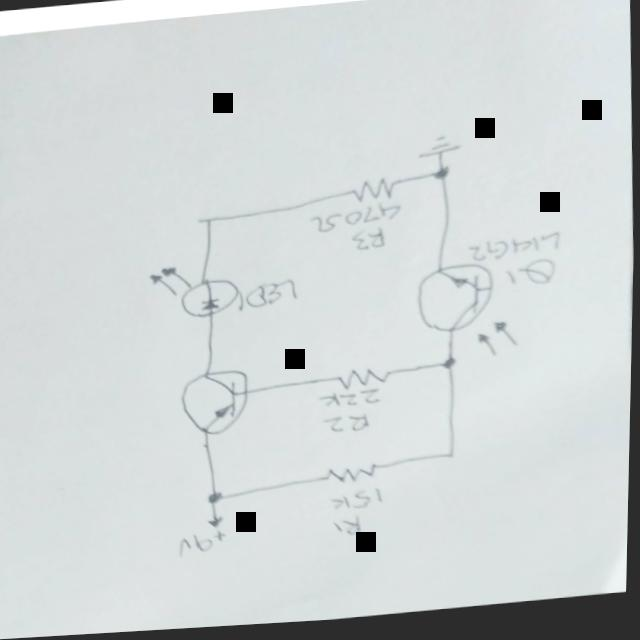diode: (148, 260, 244, 327)
ground: (415, 137, 464, 166)
junction: (208, 493, 226, 509), (434, 172, 452, 188), (444, 360, 461, 376), (443, 452, 461, 467), (202, 217, 219, 232)
resistor: (334, 366, 395, 394), (323, 463, 384, 491), (350, 178, 399, 209)
source: (207, 516, 229, 535)
text: (465, 235, 566, 301), (307, 206, 408, 262), (317, 389, 386, 441), (330, 488, 389, 544), (246, 278, 300, 315), (175, 532, 231, 562)
transistor: (415, 263, 521, 371), (180, 367, 255, 443)
